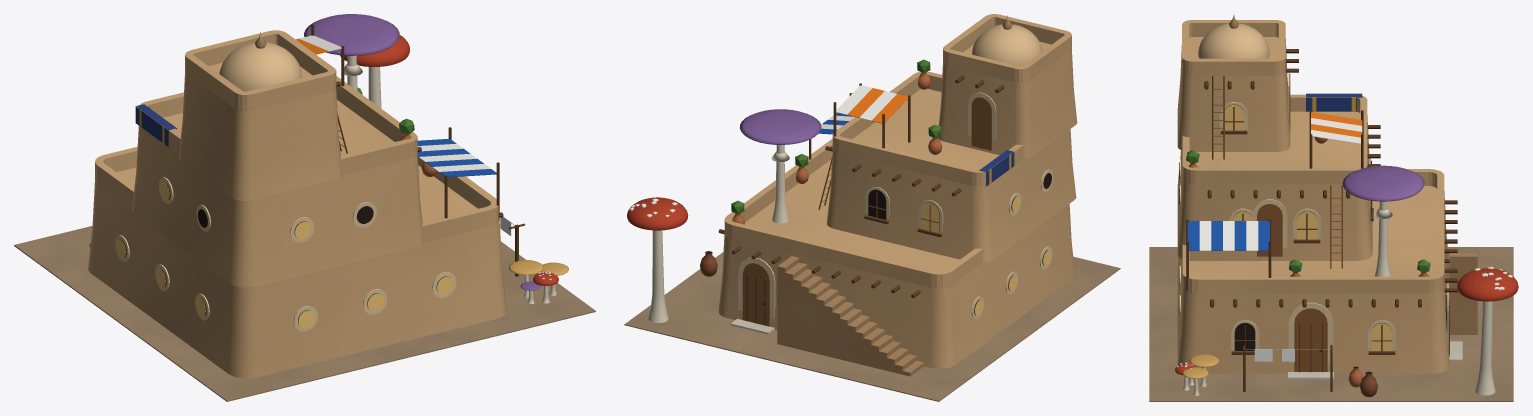
The model's file is hl_terasy.glb.
The picture shows the model from 3 angles, left to right: view 1: azimuth 30°, elevation 25°; view 2: azimuth 150°, elevation 25°; view 3: azimuth 270°, elevation 25°; orthographic projection. The views are drawn at different scales.
Parts seen in each view (by area): view 1: dum, noc; view 2: dum, noc; view 3: dum, noc.
Part boxes in pixels (x1=…): dum: x1=14, y1=14, x2=595, y2=401; noc: x1=116, y1=182, x2=453, y2=328; dum: x1=624, y1=14, x2=1120, y2=401; noc: x1=921, y1=196, x2=1051, y2=316; dum: x1=1149, y1=15, x2=1518, y2=401; noc: x1=1225, y1=105, x2=1392, y2=350.
Size of the model in its own units: 14.45 by 11.52 by 14.36.
1 material, 1 textured.
